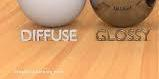ironball: (86, 0, 157, 30)
